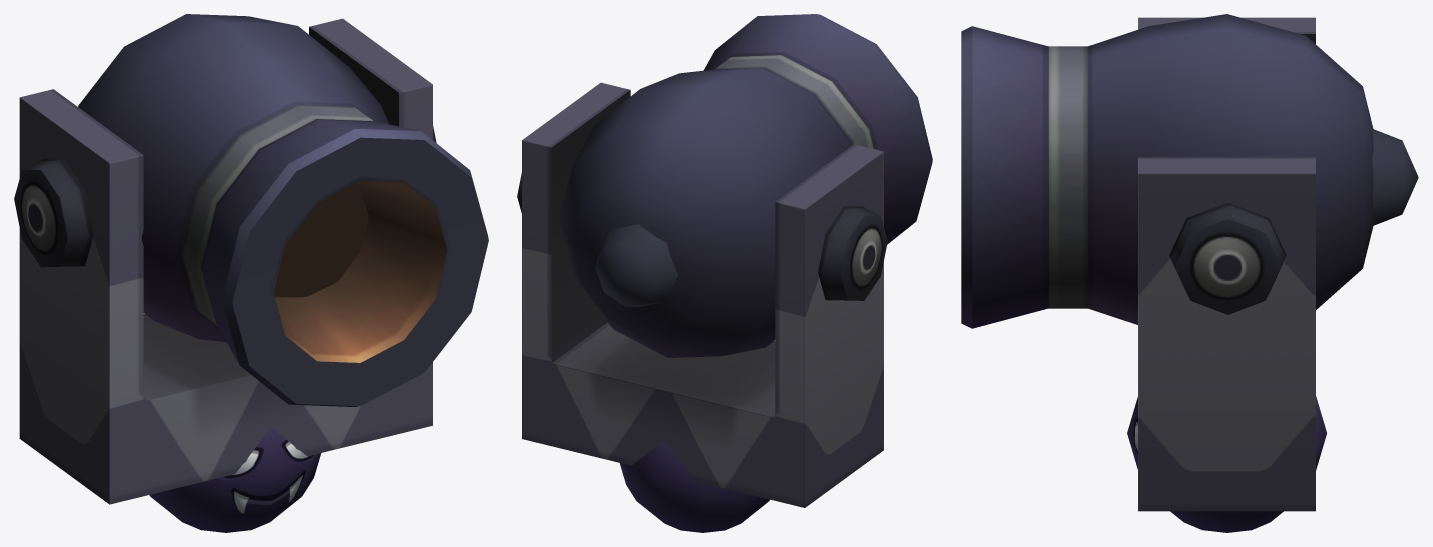
File: G_012_Cannon.FBX
3 renders of one model, left to right at view 1: azimuth 30°, elevation 25°; view 2: azimuth 150°, elevation 25°; view 3: azimuth 270°, elevation 25°, orthographic. The views are drawn at different scales.
Parts seen in each view (by area): view 1: Cannon, Prop, Bomb; view 2: Prop, Cannon, Bomb; view 3: Cannon, Prop, Bomb.
Boxes of the visible parts, left/top/right/bottom form: Cannon: left=78, top=14, right=488, bottom=406; Prop: left=14, top=18, right=436, bottom=504; Bomb: left=149, top=427, right=321, bottom=532; Prop: left=517, top=82, right=887, bottom=507; Cannon: left=559, top=14, right=932, bottom=357; Bomb: left=619, top=440, right=769, bottom=532; Cannon: left=961, top=14, right=1418, bottom=328; Prop: left=1138, top=17, right=1315, bottom=511; Bomb: left=1127, top=396, right=1326, bottom=532.
Bounding box in the file's own units: 195 × 242 × 203.
